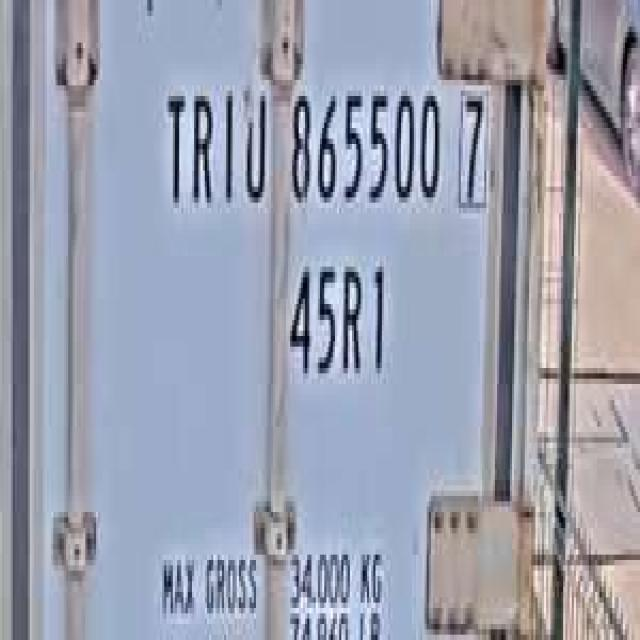dv: (454, 75, 491, 213)
owner: (160, 64, 271, 219)
serial: (284, 64, 444, 219)
size: (282, 240, 392, 389)
